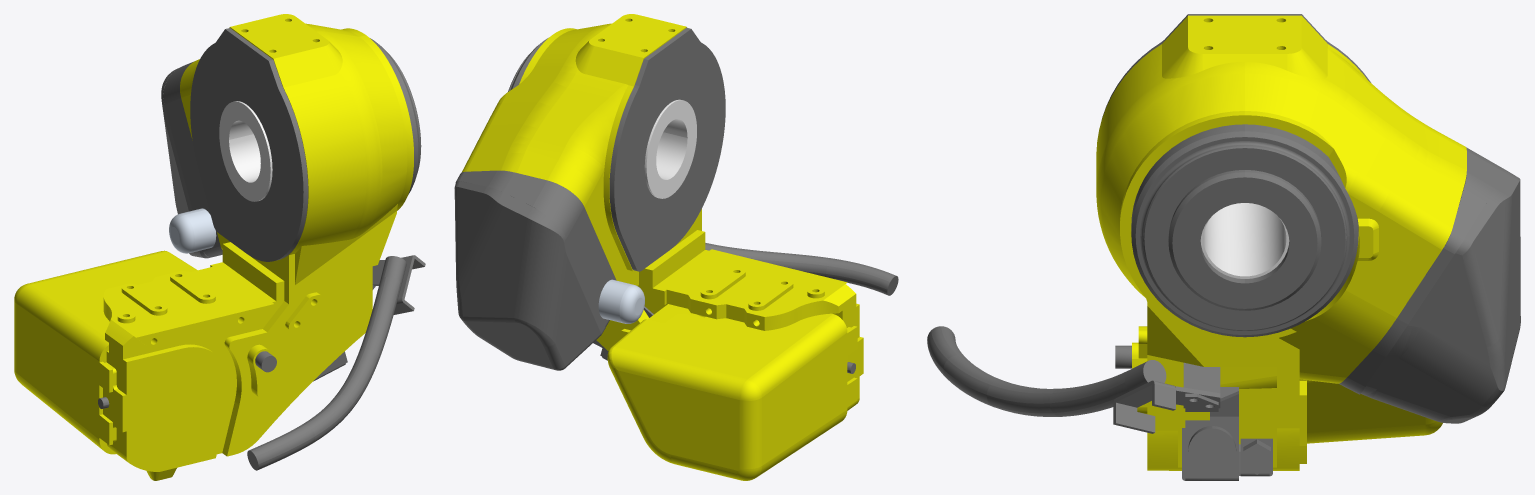
The picture shows the model from 3 angles, left to right: view 1: azimuth 30°, elevation 25°; view 2: azimuth 150°, elevation 25°; view 3: azimuth 270°, elevation 25°; orthographic projection. The views are drawn at different scales.
Parts seen in each view (by area): view 1: Mesh_0; view 2: Mesh_0; view 3: Mesh_0.
Boxes of the visible parts, box(x1,y1,x2,y2) form: Mesh_0: box(14, 14, 425, 480); Mesh_0: box(454, 14, 898, 480); Mesh_0: box(927, 14, 1520, 480).
Size of the model in its own units: 0.3213 by 0.4075 by 0.379.
